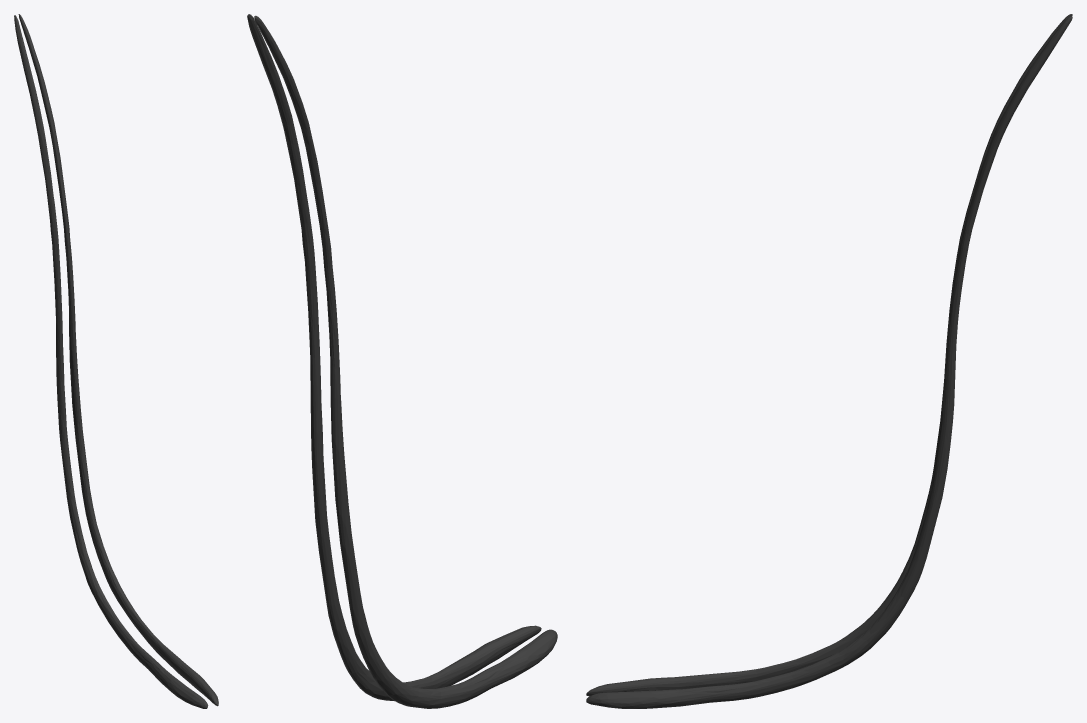
Rendered from m_sacrocaud_vent_lat.glb.
3 renders of one model, left to right at view 1: azimuth 30°, elevation 25°; view 2: azimuth 150°, elevation 25°; view 3: azimuth 270°, elevation 25°, orthographic. The views are drawn at different scales.
Parts seen in each view (by area): view 1: m_sacrocaud_vent_lat; view 2: m_sacrocaud_vent_lat; view 3: m_sacrocaud_vent_lat.
Part boxes in pixels (x1,y1,x2,y2): m_sacrocaud_vent_lat: (14, 14, 218, 708); m_sacrocaud_vent_lat: (247, 14, 557, 708); m_sacrocaud_vent_lat: (586, 14, 1072, 708).
Size of the model in its own units: 0.000644 by 0.0104 by 0.00667.
Materials: 1 (1 with a texture image).
